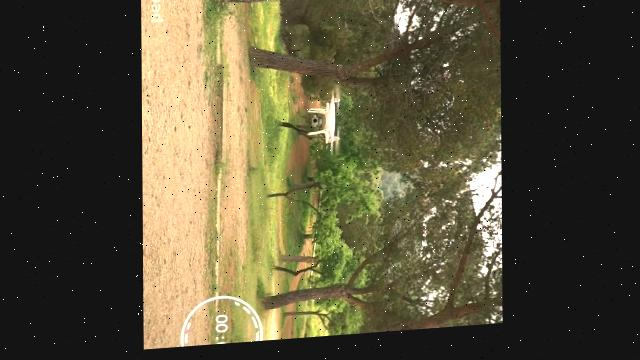drone: (305, 93, 341, 163)
